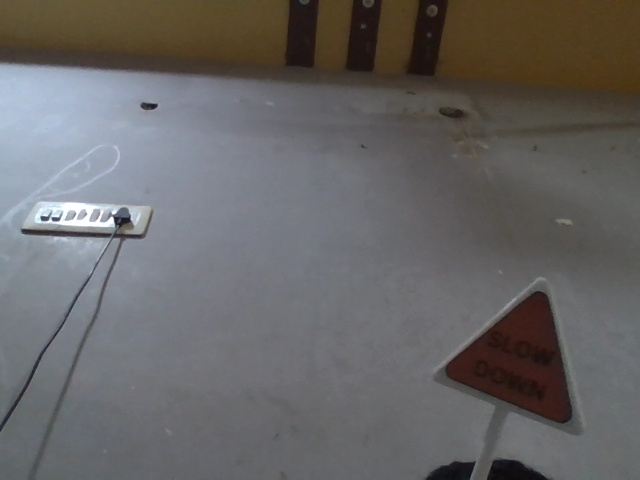slowdown: (447, 244, 576, 426)
